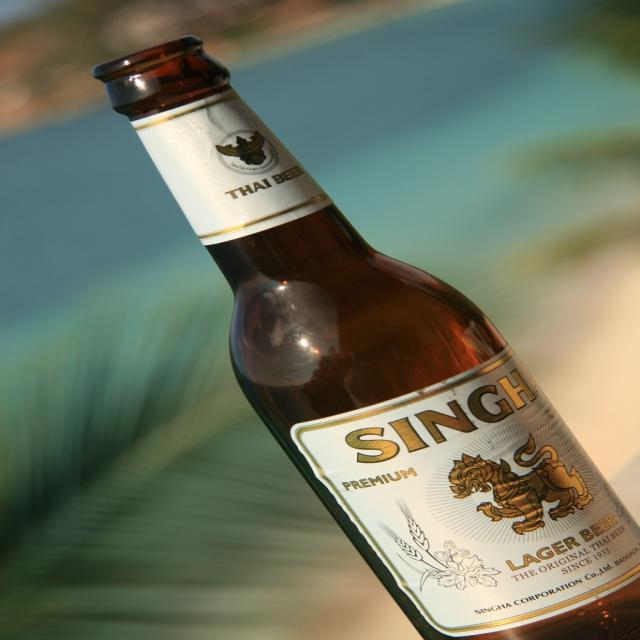singha: (297, 352, 640, 634)
